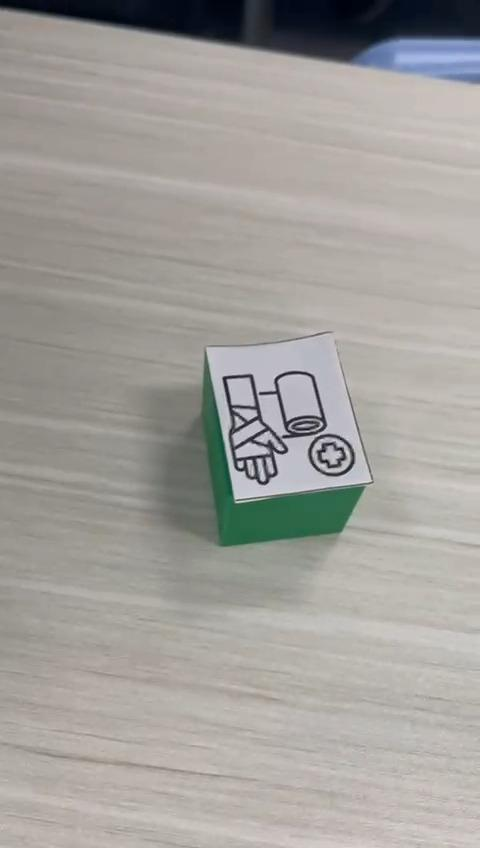Bandages: (202, 329, 374, 547)
